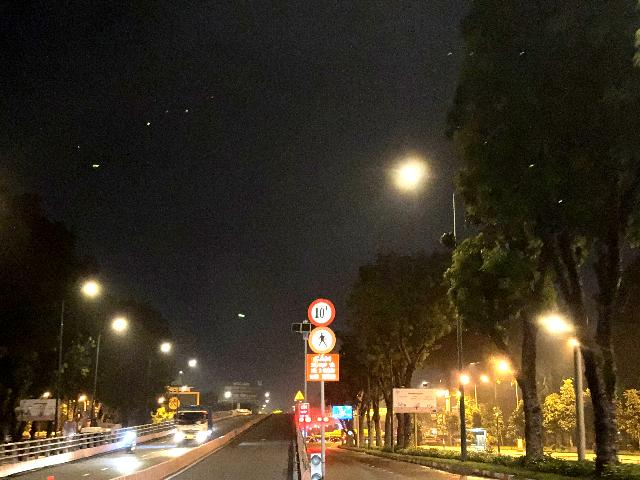cam-nguoi-di-bo: (308, 326, 336, 354)
han-che-trong-luong-xe: (308, 298, 335, 326)
